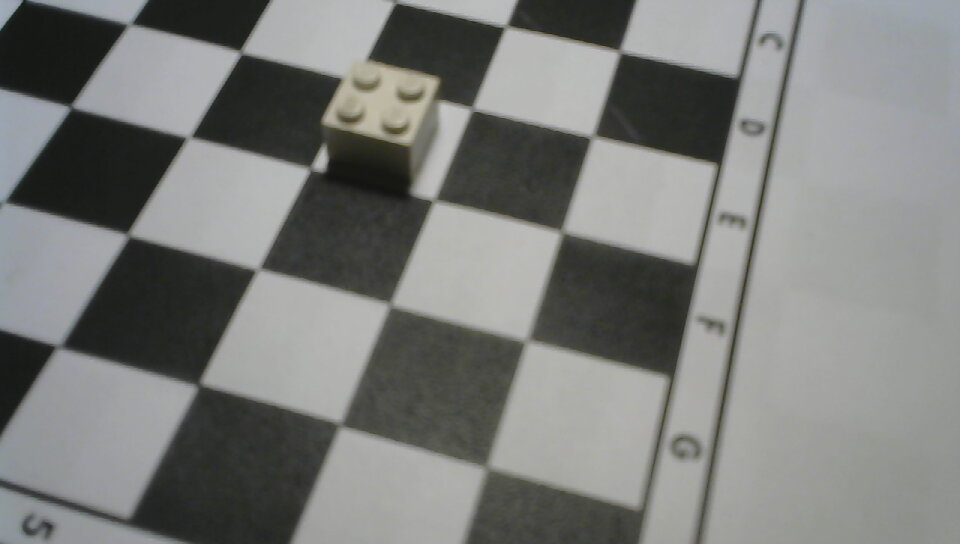wp: (319, 48, 448, 201)
